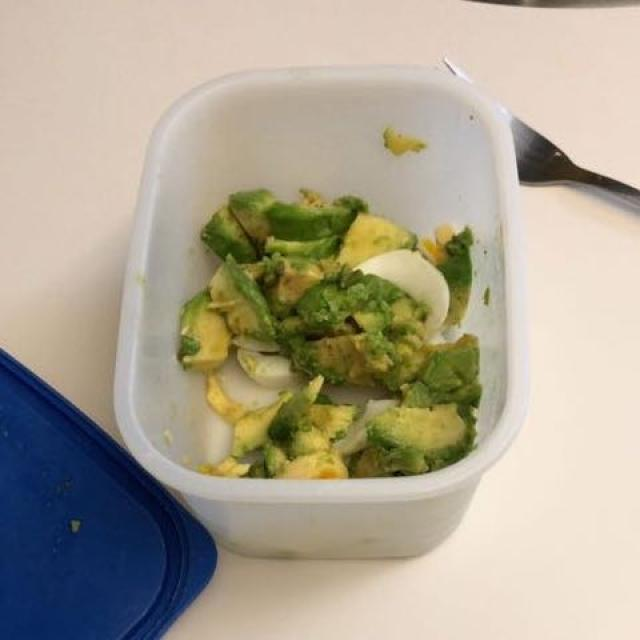Green Salad: (178, 175, 484, 480)
